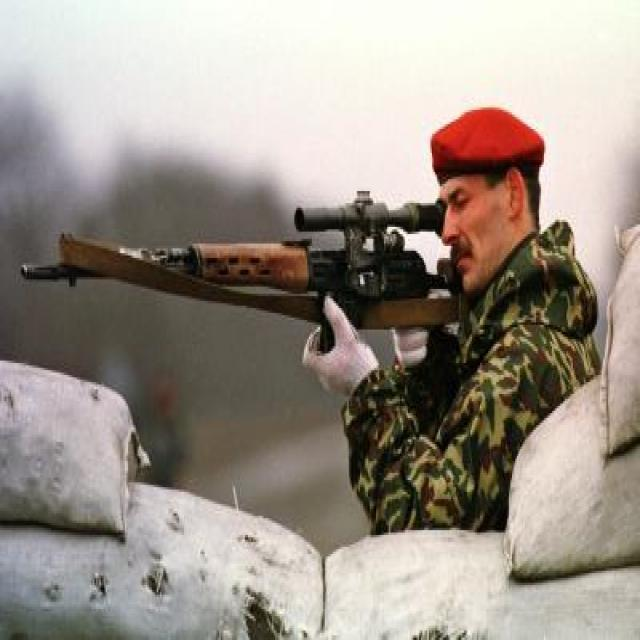rifle: (12, 190, 463, 333)
